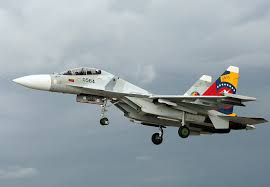maybay_muctieu: (18, 55, 269, 149)
